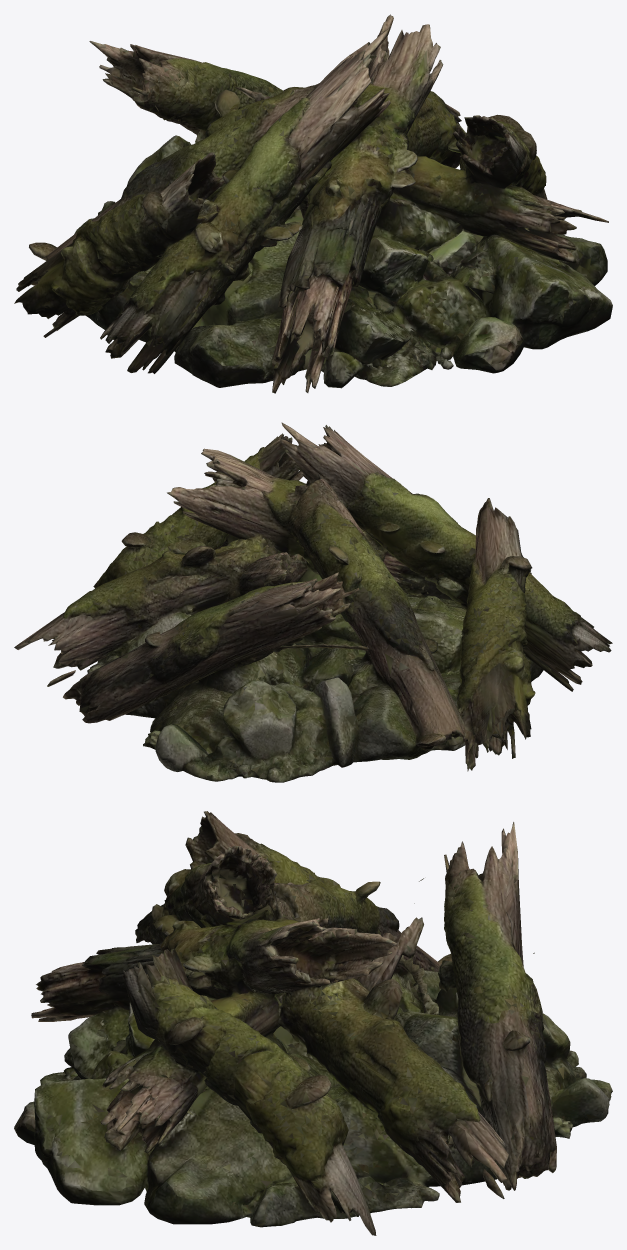
The model's file is Mossy_Timber_Ruins.glb.
3 views of the same model, one above another, from view 1: azimuth 30°, elevation 25°; view 2: azimuth 150°, elevation 25°; view 3: azimuth 270°, elevation 25° (orthographic). The views are drawn at different scales.
Parts seen in each view (by area): view 1: Mossy_Timber_Ruins; view 2: Mossy_Timber_Ruins; view 3: Mossy_Timber_Ruins.
Boxes of the visible parts, bbox=[...] form: Mossy_Timber_Ruins: bbox=[14, 14, 612, 393]; Mossy_Timber_Ruins: bbox=[14, 422, 612, 782]; Mossy_Timber_Ruins: bbox=[14, 811, 612, 1235].
Size of the model in its own units: 1.9 by 0.9383 by 1.78.
Materials: 1 (1 with a texture image).
